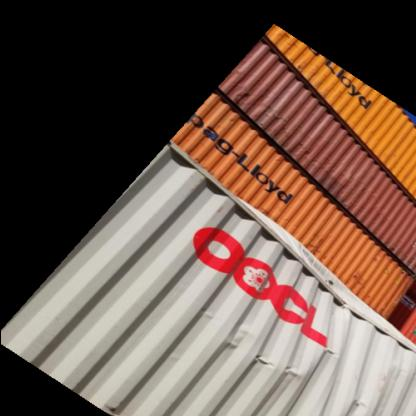Damage: (201, 216, 357, 416), (236, 86, 315, 156)
